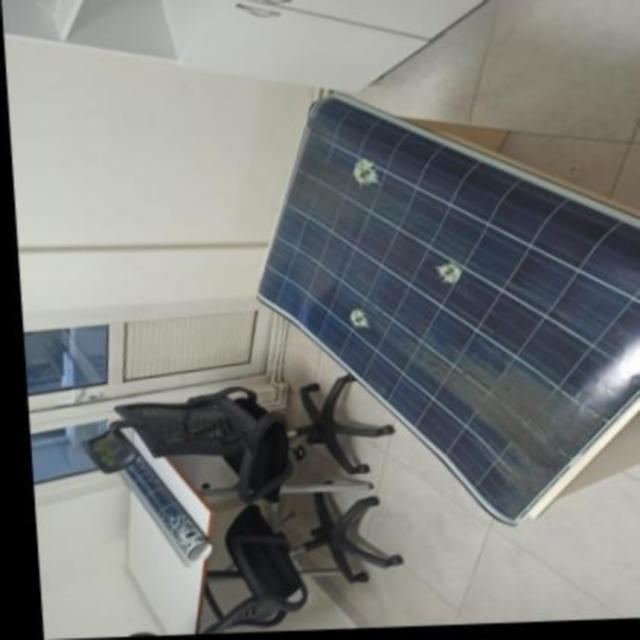soiled: (260, 90, 640, 529)
